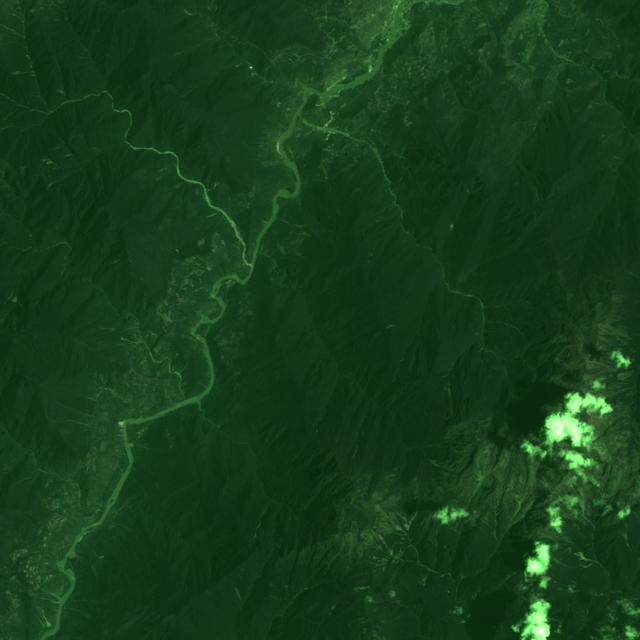landslides: (594, 467, 633, 520), (554, 486, 594, 528), (540, 519, 576, 547), (508, 487, 533, 522), (360, 527, 388, 556), (361, 215, 396, 235), (254, 501, 272, 539), (585, 460, 606, 492), (328, 534, 347, 569), (346, 520, 359, 571), (598, 322, 632, 341), (286, 554, 298, 602), (544, 498, 572, 518), (69, 592, 118, 603), (81, 536, 103, 560), (372, 521, 407, 536), (541, 554, 577, 568), (600, 465, 612, 501), (542, 508, 567, 524), (376, 532, 393, 555), (0, 24, 25, 39), (368, 524, 382, 549), (559, 482, 574, 505), (17, 468, 38, 484), (563, 477, 578, 497), (275, 217, 305, 227), (54, 419, 91, 427), (406, 512, 419, 533), (69, 607, 90, 620), (41, 587, 61, 600), (626, 502, 640, 519), (388, 509, 401, 527), (575, 551, 596, 562), (618, 369, 639, 380), (481, 518, 496, 533), (447, 381, 453, 418), (42, 608, 52, 629), (448, 507, 464, 520), (323, 111, 334, 129), (356, 541, 365, 563), (578, 488, 585, 514), (568, 584, 584, 595), (420, 571, 431, 587), (120, 337, 145, 344), (623, 524, 630, 548), (102, 259, 120, 268), (362, 542, 378, 552), (206, 181, 219, 193), (75, 518, 86, 532), (4, 289, 14, 304), (234, 587, 243, 603), (150, 313, 159, 329), (144, 321, 155, 334), (34, 614, 44, 628), (626, 269, 640, 279), (390, 558, 399, 573), (270, 583, 281, 595), (598, 335, 610, 346), (178, 362, 189, 374), (325, 130, 335, 143), (444, 545, 452, 561), (320, 626, 329, 640), (11, 71, 35, 76), (450, 526, 461, 536), (395, 511, 406, 521), (616, 336, 627, 346), (622, 273, 633, 283), (208, 210, 220, 219), (541, 557, 553, 566), (580, 561, 595, 568), (465, 555, 470, 576), (373, 556, 388, 563), (80, 517, 88, 530), (356, 571, 369, 579), (256, 216, 269, 224), (43, 597, 60, 603), (353, 586, 370, 592)
